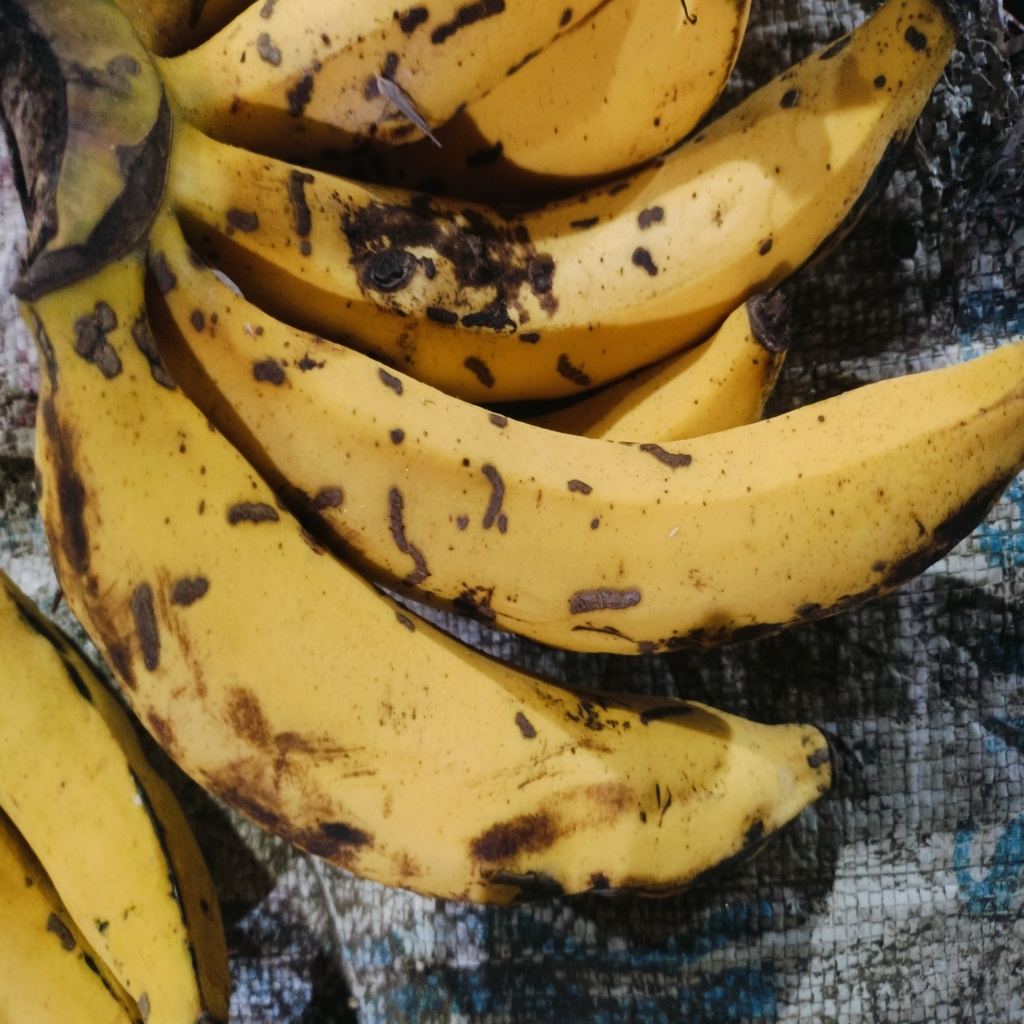unhealthy: (37, 339, 822, 891), (176, 265, 1024, 659), (164, 3, 944, 386)
